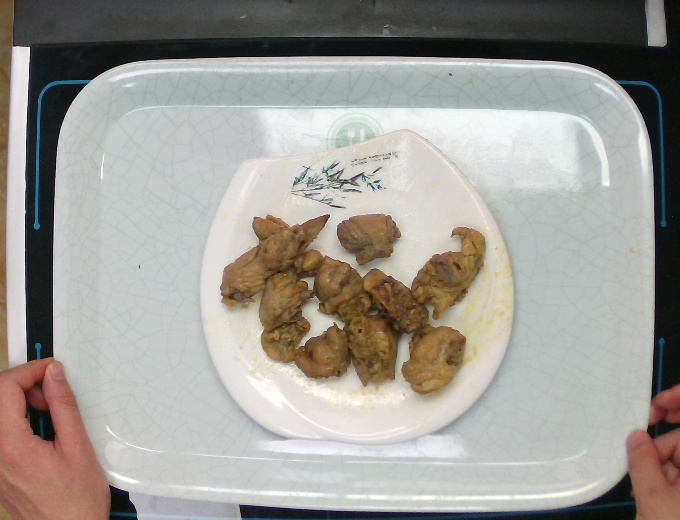JYsf-Mian_Pan: (200, 127, 521, 442)
